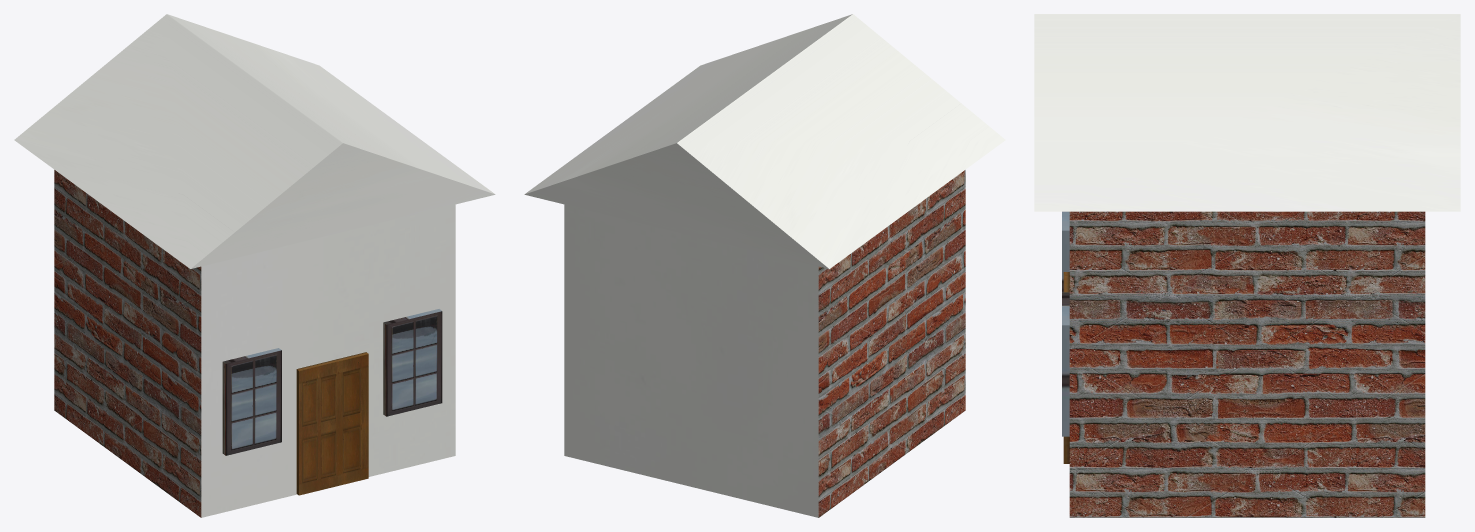
File: HOUSEmodelv2.fbx
3 views of the same model, side by side, from view 1: azimuth 30°, elevation 25°; view 2: azimuth 150°, elevation 25°; view 3: azimuth 270°, elevation 25° (orthographic). The views are drawn at different scales.
Parts seen in each view (by area): view 1: tempHOUSE.005; view 2: tempHOUSE.005; view 3: tempHOUSE.005.
Boxes of the visible parts, box(x1,y1,x2,y2) form: tempHOUSE.005: box(14, 14, 495, 517); tempHOUSE.005: box(524, 14, 1005, 517); tempHOUSE.005: box(1034, 14, 1460, 517).
Bounding box in the file's own units: 180 × 200 × 180.
